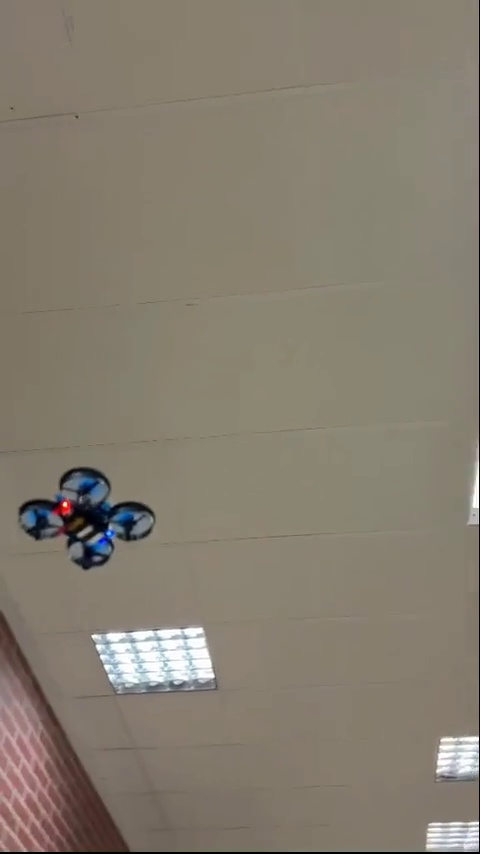drone: (17, 467, 155, 572)
